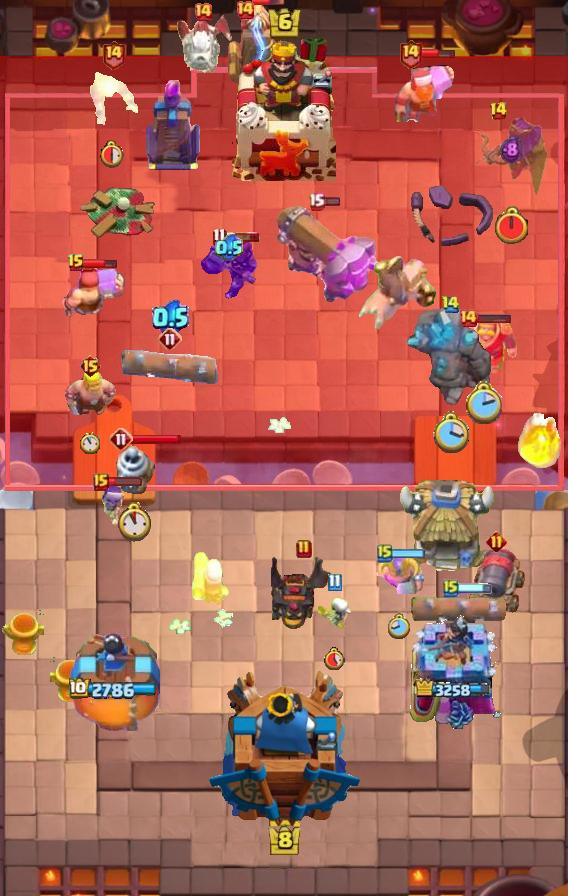archer: (64, 371, 116, 415)
archer-evolution: (271, 553, 337, 631)
barbarian-hut: (472, 115, 550, 201)
bowler: (86, 66, 141, 128)
cannoneer-tower: (405, 307, 495, 409)
electro-spirit: (152, 300, 189, 337), (215, 234, 243, 262), (500, 136, 522, 164)
elixir: (464, 381, 502, 424), (431, 411, 468, 455), (115, 502, 153, 542), (493, 206, 530, 246), (100, 140, 126, 168), (388, 613, 411, 640), (323, 646, 345, 670), (80, 432, 100, 454)
emote: (130, 433, 182, 445), (82, 258, 118, 271), (224, 231, 260, 243), (476, 312, 512, 324), (456, 582, 492, 594), (420, 49, 456, 60), (107, 476, 143, 487), (390, 549, 426, 560), (252, 0, 286, 7), (322, 196, 342, 207)
firecracker: (450, 318, 519, 375)
freeze: (355, 255, 437, 331)
furnace: (274, 203, 382, 303)
goblin: (99, 484, 129, 526)
goblin-brawler: (223, 0, 291, 86)
goblin-drill: (112, 444, 156, 496)
goblin-giant: (375, 551, 424, 594)
heal-spirit: (316, 597, 352, 629)
ice-spirit-evolution-symbol: (143, 80, 203, 172)
king-tower: (207, 669, 361, 826), (232, 39, 336, 181)
mighty-miner: (392, 58, 458, 122), (55, 264, 125, 320)
mini-pekka: (174, 13, 232, 75)
minion: (409, 589, 509, 627), (119, 348, 221, 384)
prince: (395, 480, 497, 576)
queen-tower: (406, 614, 503, 730), (68, 633, 160, 731)
royal-giant-evolution: (465, 546, 527, 616)
selected: (69, 678, 159, 701), (416, 678, 493, 701)
tesla-evolution: (199, 234, 259, 302)
text: (101, 39, 126, 70), (398, 39, 422, 70), (158, 327, 182, 351), (109, 427, 133, 451), (79, 354, 102, 378), (485, 532, 506, 553), (235, 0, 255, 20), (193, 2, 213, 22), (458, 308, 478, 328), (489, 101, 508, 121), (440, 295, 459, 314), (67, 253, 85, 273), (307, 192, 325, 211), (296, 539, 312, 559), (377, 543, 393, 563), (443, 578, 459, 598), (93, 473, 109, 491), (327, 573, 341, 592), (213, 227, 227, 245)
tombstone: (190, 549, 232, 607)
valkyrie: (516, 405, 566, 471)
